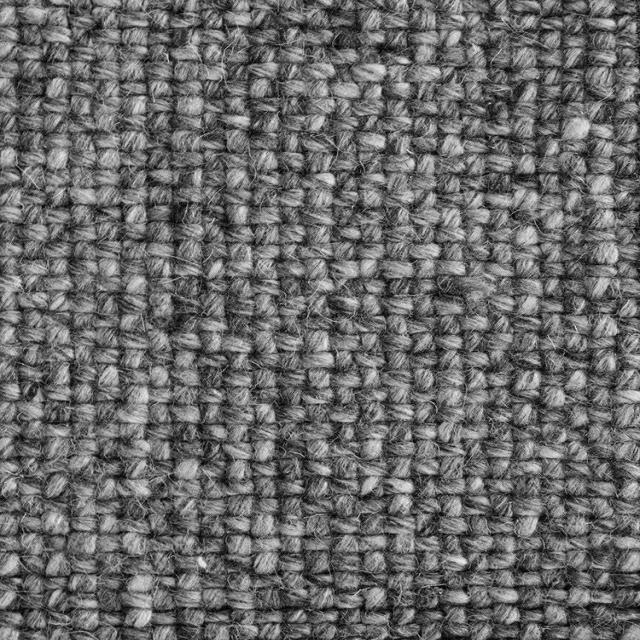Knot: (380, 368, 414, 388), (511, 496, 542, 516), (383, 260, 415, 279), (387, 154, 417, 174), (278, 296, 308, 316), (124, 534, 150, 557), (354, 66, 390, 82), (96, 364, 122, 386), (44, 476, 70, 498), (562, 120, 590, 140), (590, 244, 618, 264), (331, 296, 359, 316), (437, 296, 465, 316), (438, 370, 466, 390), (72, 458, 100, 478), (70, 534, 98, 554), (123, 458, 151, 478), (254, 590, 282, 610), (332, 460, 360, 480), (280, 516, 308, 536), (514, 516, 542, 536), (45, 403, 74, 422), (306, 551, 332, 572), (464, 495, 490, 516), (170, 406, 202, 423), (588, 68, 618, 86), (386, 83, 416, 101), (304, 134, 334, 152), (358, 134, 388, 152), (586, 157, 616, 175), (250, 206, 280, 224), (332, 208, 362, 226), (466, 279, 496, 297), (587, 278, 614, 298), (122, 294, 149, 314), (486, 370, 516, 388), (224, 406, 254, 424), (43, 516, 70, 536), (99, 556, 126, 576), (386, 496, 413, 516), (171, 332, 199, 351), (121, 405, 149, 424), (388, 516, 416, 535), (388, 553, 416, 572), (48, 552, 70, 576), (172, 369, 201, 387), (70, 498, 99, 516), (123, 479, 152, 497), (174, 132, 200, 152), (388, 134, 414, 154), (614, 278, 640, 298), (176, 296, 202, 316), (308, 370, 334, 390), (124, 498, 150, 518), (174, 459, 200, 479), (229, 461, 255, 481), (252, 516, 278, 536), (282, 590, 308, 610), (613, 517, 640, 536), (251, 116, 283, 132), (301, 244, 333, 260), (306, 424, 338, 440), (175, 260, 205, 277), (358, 317, 388, 334), (44, 346, 74, 363), (542, 48, 566, 69), (70, 78, 98, 96), (616, 121, 640, 142), (120, 132, 148, 150), (440, 135, 464, 156), (278, 152, 306, 170), (304, 171, 332, 189), (174, 187, 202, 205), (386, 191, 414, 209), (174, 206, 202, 224), (70, 224, 98, 242), (332, 226, 360, 244), (174, 278, 202, 296), (306, 278, 334, 296), (20, 292, 48, 310), (305, 334, 333, 352), (385, 334, 413, 352), (436, 334, 464, 352), (514, 352, 542, 370), (73, 365, 97, 386), (122, 367, 150, 385), (280, 370, 308, 388), (334, 370, 362, 388), (95, 386, 123, 404), (515, 389, 543, 407), (512, 424, 540, 442), (69, 556, 97, 574), (360, 459, 388, 477), (334, 496, 358, 517), (440, 496, 464, 517), (308, 152, 333, 172), (493, 296, 518, 316), (47, 366, 72, 386), (151, 516, 176, 536), (615, 552, 640, 572), (435, 228, 466, 244), (330, 262, 361, 278), (488, 155, 514, 174), (540, 316, 566, 335), (46, 592, 72, 611), (97, 592, 123, 611), (226, 497, 252, 516), (250, 133, 279, 150), (363, 590, 390, 608), (613, 589, 640, 607), (363, 152, 386, 173), (1, 553, 24, 574), (204, 62, 228, 82), (306, 64, 336, 80), (412, 66, 442, 82), (512, 68, 542, 84), (250, 82, 280, 98), (176, 98, 206, 114), (355, 101, 387, 116), (383, 116, 413, 132), (415, 134, 439, 154), (97, 150, 121, 170), (172, 153, 202, 169), (562, 156, 586, 176), (48, 188, 72, 208), (150, 296, 174, 316), (197, 317, 229, 332), (592, 316, 616, 336), (118, 333, 148, 349), (302, 352, 332, 368), (616, 370, 640, 390), (304, 390, 334, 406), (542, 424, 566, 444), (126, 576, 156, 592), (124, 593, 154, 609), (152, 554, 176, 574), (178, 555, 202, 575), (202, 480, 226, 500), (204, 590, 228, 610), (254, 442, 278, 462), (360, 440, 384, 460), (434, 442, 464, 458), (308, 587, 332, 607), (386, 478, 416, 494), (541, 624, 571, 640), (588, 212, 616, 229), (332, 553, 360, 570), (45, 150, 70, 169), (252, 152, 277, 171), (615, 408, 640, 427), (463, 458, 488, 477), (148, 80, 174, 98), (486, 118, 512, 136), (334, 154, 360, 172), (226, 170, 252, 188), (586, 176, 612, 194), (122, 188, 148, 206), (148, 206, 174, 224), (121, 224, 147, 242), (227, 227, 253, 245), (280, 226, 306, 244), (386, 226, 412, 244), (204, 244, 230, 262), (122, 276, 148, 294), (228, 297, 254, 315), (252, 370, 278, 388), (516, 370, 542, 388), (72, 404, 98, 422), (280, 406, 306, 424), (72, 438, 98, 456), (72, 574, 98, 592), (124, 440, 150, 458), (174, 498, 200, 516), (176, 518, 202, 536), (176, 536, 202, 554), (201, 460, 227, 478), (334, 442, 360, 460), (614, 444, 640, 462), (279, 461, 305, 479), (564, 460, 590, 478), (590, 462, 616, 480), (308, 516, 334, 534), (540, 478, 566, 496), (494, 606, 520, 624), (307, 100, 336, 116), (486, 262, 515, 278), (384, 298, 413, 314), (200, 390, 229, 406), (225, 443, 254, 459), (385, 442, 414, 458), (308, 296, 330, 317), (25, 552, 46, 574), (71, 150, 94, 170), (149, 150, 172, 170), (617, 157, 640, 177), (411, 296, 434, 316), (519, 296, 542, 316), (617, 316, 640, 336), (544, 388, 567, 408), (99, 534, 122, 554), (306, 459, 329, 479), (333, 191, 360, 208), (22, 259, 49, 276), (487, 389, 514, 406), (229, 555, 256, 572), (487, 442, 514, 459), (592, 121, 616, 140), (464, 333, 488, 352), (0, 477, 19, 501), (361, 516, 385, 535), (566, 516, 590, 535), (46, 115, 71, 133), (71, 170, 96, 188), (253, 188, 278, 206), (148, 225, 173, 243), (461, 317, 491, 332), (94, 346, 119, 364), (466, 352, 491, 370), (227, 370, 252, 388), (124, 386, 149, 404), (589, 388, 614, 406), (46, 440, 71, 458), (387, 424, 412, 442), (438, 424, 463, 442), (201, 500, 226, 518), (615, 481, 640, 499), (388, 574, 418, 589), (334, 82, 362, 98), (42, 98, 70, 114), (250, 100, 282, 114), (303, 208, 331, 224), (462, 210, 490, 226), (174, 226, 202, 242), (413, 244, 441, 260), (70, 260, 98, 276), (386, 280, 414, 296), (408, 318, 436, 334), (198, 353, 226, 369), (592, 352, 620, 368), (44, 386, 72, 402), (174, 424, 202, 440), (72, 611, 100, 627), (121, 518, 149, 534), (124, 611, 152, 627), (174, 442, 202, 458), (175, 576, 203, 592), (176, 592, 204, 608), (177, 609, 205, 625), (538, 443, 566, 459), (334, 591, 362, 607), (360, 536, 388, 552), (280, 63, 306, 80), (178, 243, 204, 260), (202, 278, 228, 295), (331, 317, 357, 334), (332, 406, 358, 423), (360, 405, 386, 422), (387, 405, 413, 422), (280, 481, 306, 498), (334, 518, 360, 535), (619, 242, 640, 263), (417, 156, 439, 176), (464, 156, 486, 176), (22, 168, 44, 188), (564, 192, 586, 212), (98, 295, 120, 315), (468, 297, 490, 317), (1, 592, 23, 612), (257, 554, 279, 574), (390, 458, 412, 478), (440, 458, 462, 478), (542, 516, 564, 536), (418, 553, 440, 573), (520, 587, 542, 607), (338, 31, 361, 50), (21, 132, 44, 151), (226, 133, 249, 152), (23, 190, 46, 209), (568, 316, 591, 335), (146, 244, 177, 258), (514, 48, 538, 66), (46, 80, 70, 98), (204, 81, 228, 99), (462, 102, 489, 118), (464, 136, 488, 154), (122, 151, 146, 169), (440, 157, 464, 175), (46, 169, 70, 187), (124, 170, 148, 188), (202, 170, 226, 188), (538, 174, 562, 192), (72, 188, 96, 206), (225, 188, 252, 204), (279, 190, 306, 206), (308, 190, 332, 208), (538, 192, 562, 210), (539, 211, 563, 229), (256, 226, 280, 244), (516, 262, 540, 280), (20, 326, 44, 344), (200, 334, 224, 352), (336, 334, 360, 352), (490, 334, 514, 352), (592, 371, 616, 389), (174, 388, 198, 406), (0, 458, 24, 476), (256, 406, 280, 424), (541, 408, 568, 424), (99, 440, 123, 458), (176, 480, 200, 498), (204, 556, 228, 574), (228, 516, 252, 534), (228, 536, 252, 554), (230, 590, 254, 608), (256, 480, 280, 498), (308, 442, 332, 460), (334, 572, 358, 590), (566, 497, 590, 515), (416, 518, 440, 536), (389, 536, 416, 552), (362, 554, 386, 572), (418, 590, 442, 608), (468, 588, 492, 606), (568, 588, 592, 606), (544, 606, 568, 624), (465, 66, 490, 83), (615, 211, 640, 228), (119, 243, 144, 260), (228, 335, 253, 352), (120, 349, 145, 366), (440, 31, 468, 46), (226, 47, 254, 62), (176, 116, 204, 131), (332, 116, 362, 130), (586, 264, 616, 278), (252, 280, 280, 295), (203, 296, 224, 316), (362, 295, 382, 316), (252, 317, 280, 332), (358, 353, 386, 368), (22, 516, 43, 536), (358, 424, 386, 439), (285, 625, 313, 640), (333, 480, 363, 494), (390, 626, 420, 640), (514, 119, 536, 138), (226, 206, 248, 225), (360, 260, 382, 279), (151, 367, 170, 389), (414, 370, 436, 389), (204, 517, 226, 536), (542, 497, 564, 516), (592, 16, 618, 32), (176, 81, 202, 97), (282, 81, 308, 97), (490, 85, 516, 101), (122, 98, 148, 114), (514, 102, 540, 118), (614, 103, 640, 119), (121, 116, 147, 132), (148, 115, 174, 131), (45, 133, 71, 149), (512, 139, 538, 155), (96, 171, 122, 187), (148, 171, 174, 187), (460, 176, 486, 192), (614, 177, 640, 193), (122, 208, 148, 224), (228, 262, 254, 278), (279, 261, 305, 277), (590, 299, 616, 315), (45, 330, 71, 346), (540, 336, 566, 352), (172, 352, 198, 368), (20, 366, 46, 382), (438, 390, 464, 406), (46, 422, 72, 438), (487, 460, 513, 476), (312, 624, 338, 640), (614, 500, 640, 516), (441, 518, 467, 534), (364, 610, 390, 626), (392, 609, 418, 625), (280, 134, 303, 152), (514, 156, 537, 174), (437, 175, 460, 193), (98, 188, 121, 206), (362, 191, 385, 209), (0, 206, 23, 224), (513, 209, 536, 227), (307, 226, 330, 244), (544, 280, 567, 298), (46, 311, 69, 329), (278, 334, 301, 352), (567, 352, 590, 370), (590, 426, 613, 444), (415, 458, 438, 476), (468, 518, 491, 536), (591, 552, 614, 570), (470, 606, 493, 624), (94, 9, 118, 26), (21, 79, 45, 96), (538, 121, 562, 138), (279, 172, 303, 189), (282, 279, 306, 296), (439, 353, 463, 370), (202, 370, 226, 387), (20, 439, 44, 456), (488, 424, 512, 441), (72, 479, 96, 496), (280, 442, 304, 459), (514, 479, 538, 496), (414, 499, 438, 516), (442, 536, 466, 553), (444, 555, 468, 572), (568, 570, 592, 587), (333, 51, 362, 65), (358, 245, 387, 259), (305, 536, 334, 550), (120, 11, 147, 26), (95, 98, 120, 114), (0, 148, 20, 168), (513, 176, 538, 192), (413, 210, 438, 226), (256, 296, 276, 316), (24, 346, 44, 366), (252, 353, 277, 369), (1, 576, 26, 592), (22, 478, 42, 498), (227, 574, 252, 590), (280, 572, 305, 588), (588, 481, 613, 497), (490, 496, 510, 516), (416, 536, 441, 552), (542, 554, 567, 570), (615, 572, 640, 588), (615, 624, 640, 640), (492, 50, 513, 69), (1, 383, 20, 404), (70, 8, 92, 26), (442, 66, 464, 84), (590, 102, 612, 120), (336, 134, 358, 152), (150, 188, 172, 206), (492, 210, 514, 228), (98, 224, 120, 242), (204, 226, 226, 244), (586, 230, 619, 242), (566, 246, 588, 264), (150, 260, 172, 278), (415, 260, 437, 278), (496, 278, 518, 296), (48, 292, 70, 310), (72, 294, 94, 312), (414, 334, 436, 352), (516, 334, 538, 352), (566, 372, 588, 390), (98, 404, 120, 422), (590, 408, 612, 426), (152, 440, 174, 458), (283, 536, 305, 554), (362, 480, 384, 498), (224, 12, 252, 26), (328, 11, 356, 25), (412, 101, 440, 115), (226, 116, 254, 130), (439, 262, 467, 276), (514, 318, 542, 332), (514, 192, 537, 209), (255, 244, 278, 261), (541, 246, 564, 263), (100, 460, 123, 477), (617, 464, 640, 481), (545, 588, 568, 605), (254, 31, 280, 46), (122, 81, 148, 96), (564, 103, 590, 118), (385, 174, 411, 189), (488, 194, 514, 209), (588, 195, 614, 210), (254, 389, 280, 404), (254, 425, 280, 440), (122, 627, 152, 640), (206, 625, 232, 640), (311, 608, 337, 623), (438, 480, 464, 495), (444, 624, 470, 639), (616, 0, 640, 16), (410, 34, 442, 46), (470, 30, 494, 46), (18, 44, 42, 60), (46, 46, 70, 62), (94, 63, 118, 79), (440, 85, 464, 101), (466, 85, 490, 101), (616, 86, 640, 102), (72, 116, 96, 132), (306, 116, 330, 132), (72, 134, 96, 150), (590, 141, 614, 157), (538, 158, 562, 174), (175, 170, 199, 186), (254, 172, 278, 188), (334, 174, 358, 190), (488, 176, 512, 192), (562, 176, 586, 192), (72, 208, 96, 224), (96, 207, 120, 223), (362, 210, 386, 226), (438, 210, 462, 226), (563, 212, 587, 228), (362, 226, 386, 242), (0, 242, 24, 258), (98, 277, 122, 293), (362, 279, 386, 295), (439, 279, 463, 295), (121, 316, 145, 332), (97, 422, 121, 438), (413, 425, 437, 441), (44, 499, 68, 515), (150, 536, 174, 552), (230, 608, 254, 624), (587, 443, 611, 459), (282, 554, 306, 570), (308, 480, 332, 496), (306, 498, 330, 514), (488, 479, 512, 495), (360, 498, 384, 514), (518, 536, 542, 552), (590, 536, 614, 552), (444, 590, 468, 606), (542, 572, 566, 588), (494, 624, 518, 640), (0, 169, 20, 188), (416, 478, 435, 498), (203, 188, 224, 206), (488, 230, 515, 244), (443, 243, 464, 261), (206, 262, 227, 280), (544, 352, 565, 370), (0, 518, 21, 536), (438, 408, 465, 422), (71, 518, 98, 532), (100, 480, 121, 498), (254, 538, 281, 552), (514, 462, 541, 476), (542, 460, 563, 478), (613, 608, 640, 622), (19, 9, 44, 24), (387, 210, 412, 225), (24, 226, 49, 241), (538, 229, 563, 244), (148, 317, 173, 332), (386, 388, 411, 403), (122, 424, 147, 439), (517, 572, 542, 587), (412, 227, 434, 244), (278, 244, 300, 261), (306, 261, 328, 278), (566, 298, 588, 315), (308, 406, 330, 423), (229, 425, 251, 442), (494, 536, 516, 553), (570, 623, 592, 640), (21, 28, 44, 44), (310, 31, 333, 47), (617, 68, 640, 84), (310, 82, 333, 98), (541, 85, 564, 101), (565, 85, 588, 101), (283, 116, 306, 132), (414, 118, 437, 134), (440, 118, 463, 134), (21, 152, 44, 168), (227, 153, 250, 169), (389, 244, 412, 260), (71, 314, 94, 330), (414, 353, 437, 369), (465, 406, 488, 422), (516, 408, 539, 424), (464, 424, 487, 440), (282, 500, 305, 516), (517, 554, 540, 570), (420, 608, 443, 624), (470, 624, 493, 640), (173, 47, 201, 60), (278, 48, 304, 62), (254, 64, 280, 78), (72, 244, 98, 258), (514, 246, 540, 260), (122, 260, 148, 274), (48, 277, 74, 291), (306, 318, 332, 332), (334, 390, 360, 404), (614, 429, 640, 443), (46, 612, 72, 626), (178, 626, 204, 640), (233, 625, 259, 639), (256, 500, 282, 514), (254, 574, 280, 588), (468, 538, 494, 552), (360, 574, 386, 588), (0, 405, 19, 424), (510, 0, 540, 12), (171, 14, 201, 26), (568, 50, 588, 68), (1, 114, 21, 132), (464, 118, 484, 136), (438, 194, 462, 209), (616, 195, 640, 210), (204, 206, 224, 224), (566, 278, 584, 298), (493, 317, 513, 335), (98, 330, 118, 348), (150, 334, 170, 352), (256, 334, 276, 352), (492, 352, 512, 370), (466, 370, 486, 388), (22, 384, 40, 404), (74, 386, 94, 404), (230, 389, 254, 404), (1, 612, 25, 627), (25, 460, 45, 478), (203, 406, 223, 424), (72, 423, 96, 438), (204, 426, 228, 441), (154, 480, 174, 498), (154, 592, 174, 610), (204, 442, 224, 460), (258, 624, 282, 639), (336, 537, 360, 552), (592, 498, 612, 516), (470, 554, 490, 572), (364, 625, 388, 640), (391, 591, 415, 606), (594, 570, 614, 588), (494, 589, 518, 604), (592, 588, 612, 606), (466, 442, 487, 459), (484, 14, 506, 30), (566, 17, 588, 33), (490, 68, 512, 84), (98, 80, 120, 96), (363, 83, 385, 99), (518, 86, 540, 102), (72, 98, 94, 114), (284, 99, 306, 115), (490, 102, 512, 118), (21, 115, 43, 131), (98, 116, 120, 132), (96, 133, 118, 149), (202, 134, 224, 150), (204, 152, 226, 168), (464, 194, 486, 210), (280, 208, 302, 224), (516, 229, 538, 245), (490, 244, 512, 260), (99, 260, 121, 276), (255, 262, 277, 278), (0, 276, 22, 292), (74, 277, 96, 293), (150, 278, 172, 294), (415, 280, 437, 296), (520, 280, 542, 296), (542, 297, 564, 313), (618, 299, 640, 315), (281, 317, 303, 333), (360, 336, 382, 352), (0, 346, 22, 362), (148, 350, 170, 366), (280, 353, 302, 369), (334, 353, 356, 369), (544, 372, 566, 388), (22, 404, 44, 420), (490, 407, 512, 423), (568, 426, 590, 442), (128, 558, 150, 574), (204, 536, 226, 552), (414, 442, 436, 458), (514, 442, 536, 458), (466, 478, 488, 494), (492, 554, 514, 570), (568, 553, 590, 569), (411, 14, 436, 28), (47, 30, 72, 44), (151, 30, 176, 44), (122, 48, 147, 62), (563, 141, 588, 155), (47, 244, 72, 258), (153, 612, 178, 626), (284, 610, 309, 624), (307, 573, 332, 587), (361, 174, 384, 189), (333, 245, 356, 260), (617, 338, 640, 353), (149, 425, 172, 440), (339, 609, 362, 624), (543, 537, 566, 552), (445, 608, 468, 623), (26, 242, 44, 261), (0, 364, 19, 382), (26, 576, 45, 594), (542, 103, 562, 120), (388, 317, 408, 334), (438, 317, 458, 334), (22, 499, 42, 516), (520, 623, 540, 640), (562, 1, 588, 14), (382, 14, 408, 27), (97, 30, 123, 43), (440, 50, 466, 63), (589, 337, 615, 350), (227, 482, 253, 495), (256, 611, 282, 624), (439, 16, 463, 30), (540, 16, 564, 30), (514, 33, 538, 47), (568, 34, 592, 48), (616, 36, 640, 50), (616, 51, 640, 65), (72, 64, 93, 80), (150, 65, 174, 79), (150, 99, 174, 113), (540, 140, 561, 156), (1, 190, 22, 206), (46, 210, 70, 224), (232, 246, 253, 262), (21, 312, 45, 326), (231, 318, 252, 334), (72, 332, 96, 346), (150, 390, 174, 404), (616, 392, 640, 406), (24, 422, 45, 438), (416, 406, 437, 422), (44, 536, 65, 552), (100, 516, 121, 532), (100, 612, 124, 626), (340, 626, 364, 640), (567, 536, 588, 552), (616, 538, 640, 552), (418, 574, 442, 588), (492, 572, 516, 586), (570, 606, 591, 622), (358, 12, 380, 27), (178, 65, 200, 80), (413, 175, 435, 190), (24, 277, 46, 292), (230, 280, 252, 295), (228, 353, 250, 368), (414, 389, 436, 404), (421, 625, 443, 640), (492, 136, 510, 154), (0, 292, 18, 310), (0, 326, 18, 344), (570, 390, 588, 408), (24, 594, 43, 611), (46, 64, 69, 78), (227, 100, 250, 114), (337, 280, 360, 294), (47, 460, 70, 474), (47, 576, 70, 590), (99, 500, 122, 514), (153, 626, 176, 640), (203, 575, 226, 589), (467, 572, 490, 586), (468, 50, 488, 66), (419, 84, 439, 100), (2, 132, 22, 148), (150, 132, 170, 148), (416, 192, 436, 208), (50, 226, 70, 242), (568, 336, 588, 352), (282, 390, 302, 406), (466, 390, 486, 406), (2, 438, 18, 458), (154, 460, 174, 476), (257, 462, 277, 478), (567, 479, 587, 495), (492, 518, 512, 534), (592, 518, 612, 534), (592, 608, 612, 624), (593, 625, 614, 640), (414, 50, 440, 62), (0, 425, 24, 438), (24, 628, 50, 640), (100, 578, 126, 590), (366, 33, 388, 47), (74, 48, 96, 62), (592, 52, 614, 66), (122, 65, 144, 79), (590, 86, 612, 100), (2, 226, 24, 240), (563, 230, 585, 244), (466, 246, 488, 260), (542, 264, 564, 278), (390, 354, 412, 368), (0, 538, 22, 552), (74, 594, 96, 608), (206, 609, 228, 623), (443, 574, 465, 588), (76, 347, 94, 364), (340, 424, 358, 441), (390, 66, 409, 82), (21, 98, 40, 114), (254, 14, 279, 26), (543, 33, 563, 48), (0, 97, 20, 112), (97, 244, 117, 259), (156, 576, 176, 591), (388, 102, 409, 116), (175, 318, 196, 332), (282, 426, 303, 440), (280, 13, 304, 25), (202, 31, 226, 43), (148, 48, 172, 60), (2, 62, 20, 78), (616, 144, 640, 156), (468, 228, 486, 244), (0, 258, 18, 274), (1, 310, 19, 326), (96, 316, 120, 328), (622, 354, 640, 370), (362, 390, 386, 402), (26, 612, 44, 628), (150, 406, 168, 422), (570, 408, 588, 424), (390, 51, 412, 64), (618, 229, 640, 242), (98, 627, 120, 640), (545, 69, 564, 84), (46, 10, 66, 24), (148, 13, 168, 27), (202, 13, 222, 27), (620, 18, 640, 32), (126, 30, 146, 44), (493, 32, 513, 46), (204, 48, 224, 62), (24, 63, 44, 77), (231, 66, 251, 80), (564, 70, 584, 84), (206, 100, 226, 114), (204, 116, 224, 130), (25, 210, 45, 224), (566, 264, 586, 278), (618, 264, 638, 278), (24, 536, 44, 550), (151, 500, 171, 514), (522, 608, 542, 622), (73, 628, 96, 640), (1, 502, 22, 515), (0, 44, 17, 60), (461, 1, 488, 11), (2, 27, 20, 42), (0, 80, 18, 95), (230, 82, 248, 97), (50, 260, 68, 275), (568, 444, 586, 459), (231, 30, 250, 44), (390, 34, 409, 48), (512, 18, 536, 29), (284, 34, 306, 46), (308, 51, 330, 63), (0, 627, 22, 639), (468, 262, 485, 277), (542, 0, 560, 14), (2, 8, 16, 26), (182, 30, 200, 44), (98, 48, 119, 60), (256, 48, 274, 62), (442, 102, 460, 116), (362, 116, 380, 130), (489, 0, 509, 12), (306, 14, 326, 26), (50, 628, 70, 640), (467, 16, 484, 30), (597, 36, 614, 50), (337, 101, 354, 115), (364, 370, 377, 388), (92, 0, 120, 8), (76, 30, 92, 44), (336, 66, 352, 80), (278, 0, 300, 10), (379, 1, 406, 9), (174, 1, 197, 10), (335, 0, 355, 10), (366, 52, 384, 63), (408, 1, 435, 8), (68, 0, 90, 8), (356, 0, 376, 8), (318, 0, 335, 8), (302, 0, 318, 8), (442, 243, 442, 243)
